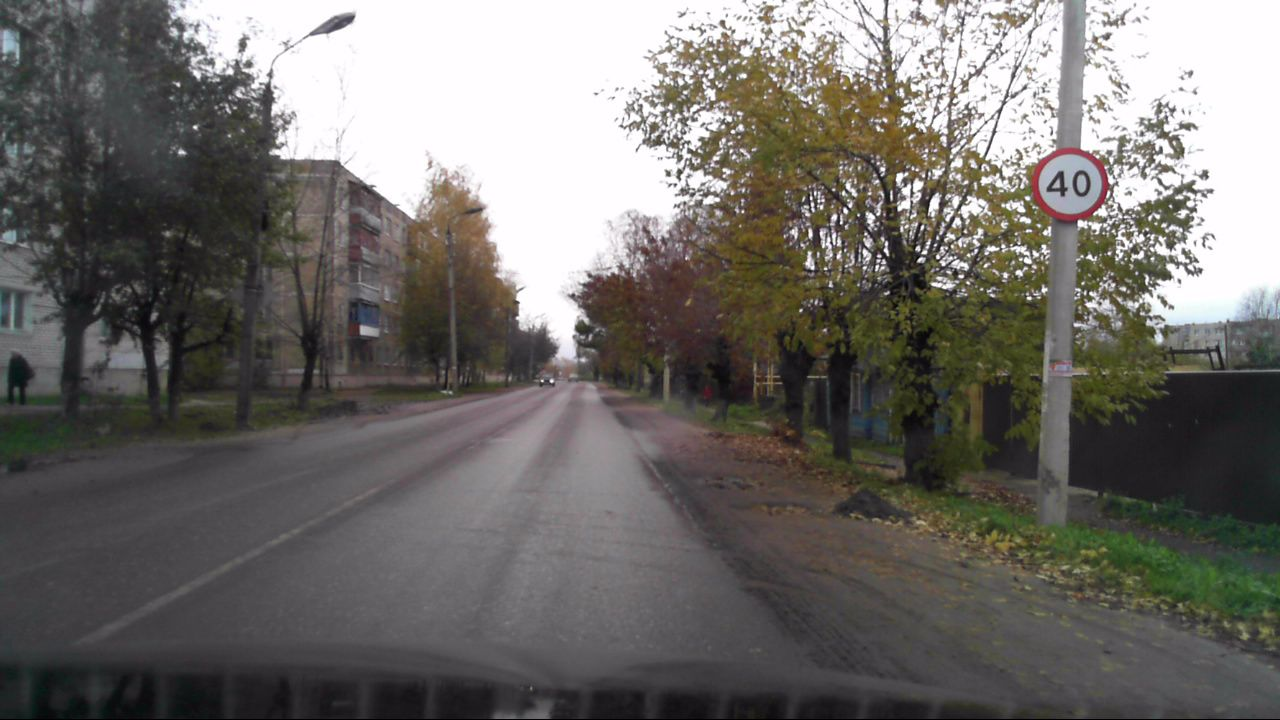speed_warning_40: (1029, 144, 1110, 224)
